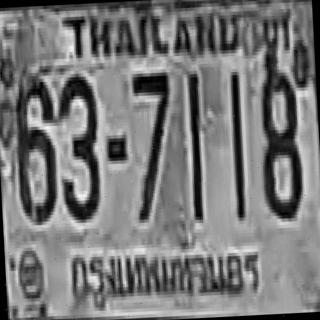N01: (185, 69, 205, 219), (228, 70, 245, 220)
N03: (55, 70, 101, 221)
N06: (12, 75, 58, 223)
N07: (130, 70, 174, 220)
N08: (256, 62, 302, 216)
P04: (61, 231, 264, 307)
